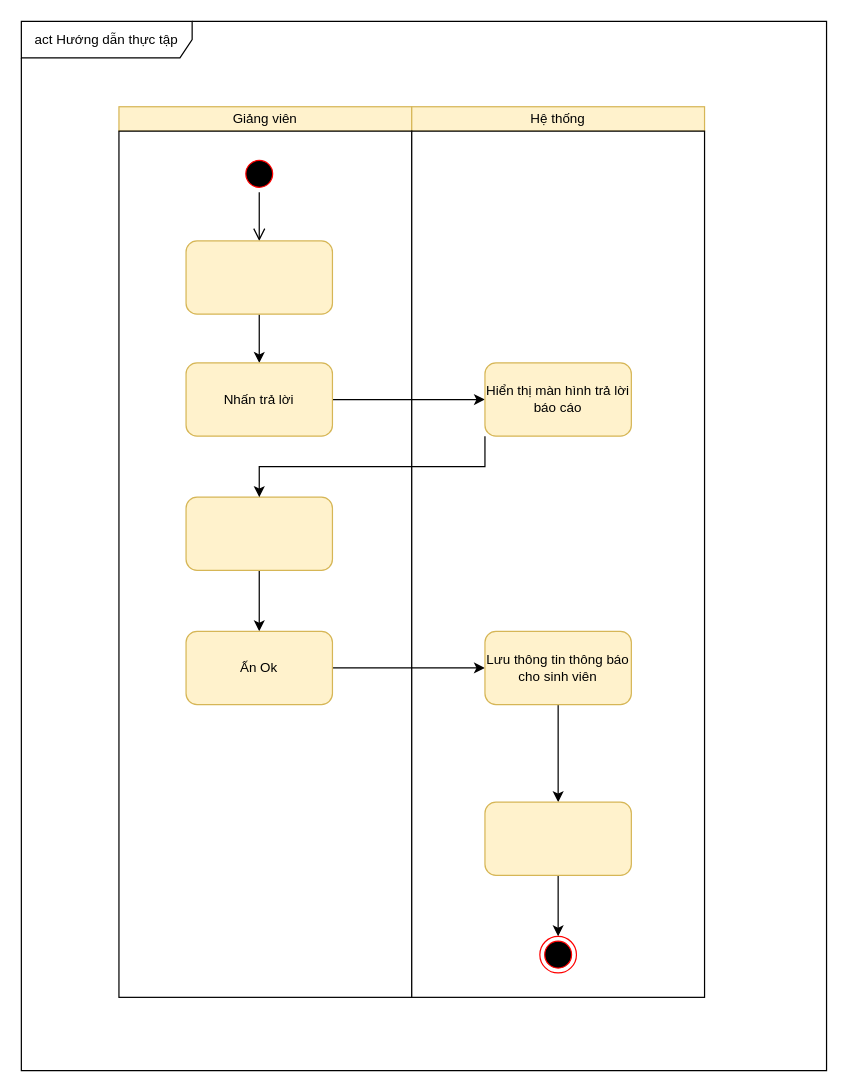
This 848x1092 diagram has some shape labels left out. Each missing label, with the centre of its shape:
"Chọn báo cáo thực tập" belongs at point 258,277.
"Nhập thông tin hướng dẫn thực tập" belongs at point 258,533.
"Thông báo thành công" belongs at point 557,838.
